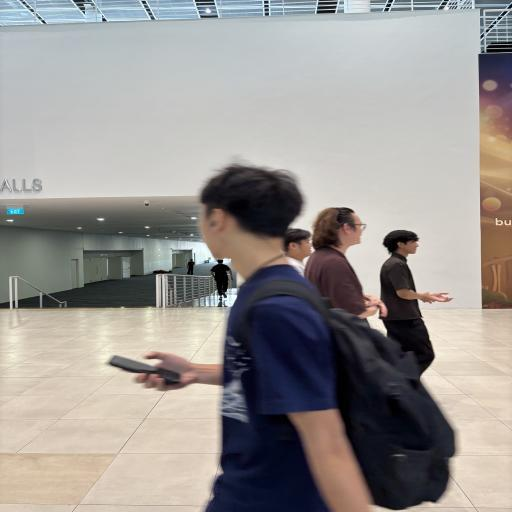person_right: (366, 221, 459, 404)
